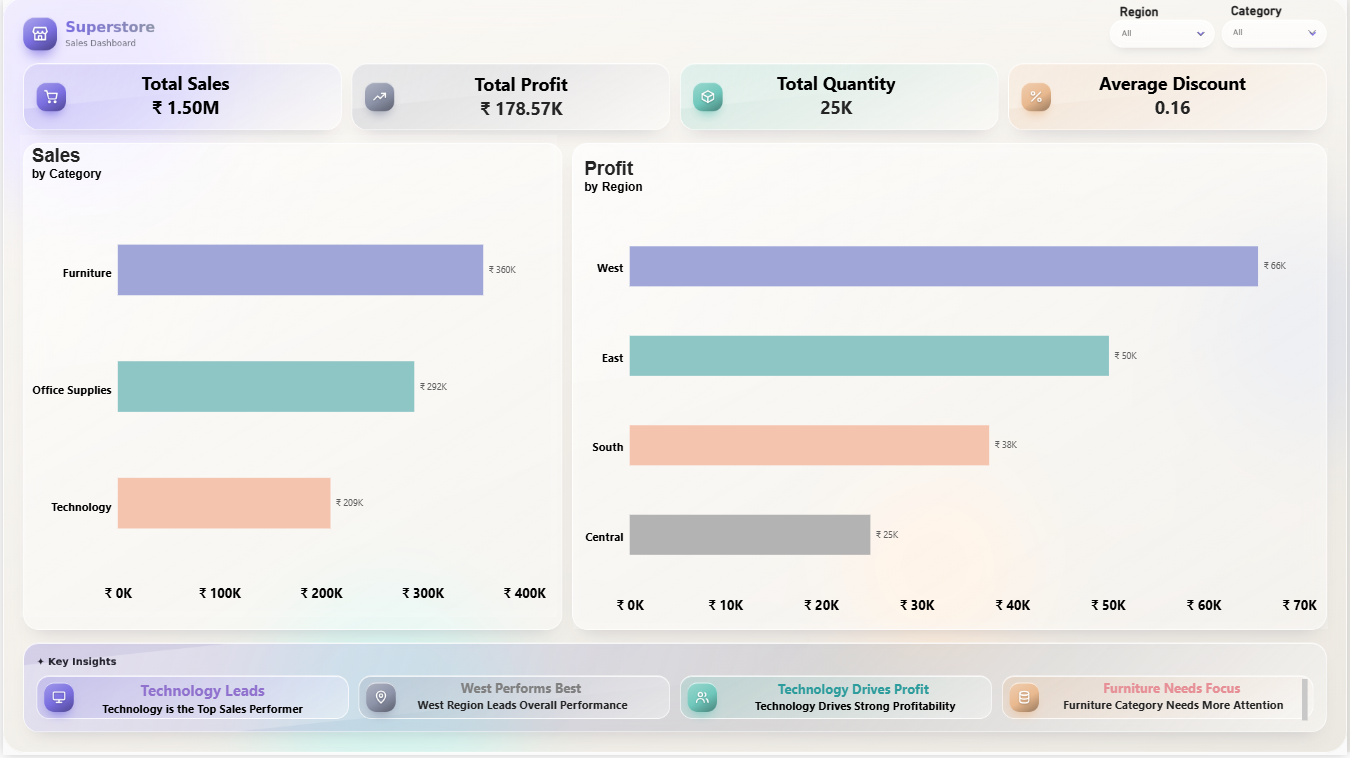

The page's visual inventory and layout, read from the dashboard file:
{"tool":"powerbi","page":{"name":"DASHBOARD","canvas":[1920,1080],"ordinal":0},"visuals":[{"type":"cardVisual","fields":{"Data":["Sum(Sample - Superstore.Sales)"]},"box":[41.7,90,439.6,96.7],"z":0},{"type":"cardVisual","fields":{"Data":["Sum(Sample - Superstore.Profit)"]},"box":[520,90,441.7,101.7],"z":1000},{"type":"cardVisual","fields":{"Data":["Sum(Sample - Superstore.Quantity)"]},"box":[973.3,90,434.9,96.7],"z":2000},{"type":"cardVisual","fields":{"Data":["Avg(Sample - Superstore.Discount)"]},"box":[1448.3,90,445.8,96.7],"z":3000},{"type":"clusteredBarChart","title":" Profit","fields":{"Category":["Sample - Superstore.Region"],"Y":["Sum(Sample - Superstore.Profit)"]},"box":[815,211.7,1078.3,688.3],"z":4000},{"type":"slicer","fields":{"Values":["Sample - Superstore.Region"]},"box":[1587.5,6.7,140.8,60],"z":5000},{"type":"clusteredBarChart","title":" Sales","fields":{"Category":["Sample - Superstore.Category"],"Y":["Sum(Sample - Superstore.Sales)"]},"box":[25,195,766.7,688.3],"z":6000},{"type":"slicer","fields":{"Values":["Sample - Superstore.Category"]},"box":[1746.7,5,140.8,67.5],"z":7000},{"type":"textbox","box":[101.7,973.3,366.7,71.7],"z":8000},{"type":"textbox","box":[550,972,380,68],"z":9000},{"type":"textbox","box":[1024,974,384,88],"z":10000},{"type":"textbox","box":[1481.7,971.7,381.7,70],"z":11000}]}

Visuals, with their boxes in screenshot pixels (x1, y1, x2, y2), scaled from the page's 1920x1080 canvas onto the 1350x758 screenshot:
cardVisual - Sum(Sample - Superstore.Sales): 29, 63, 338, 131
cardVisual - Sum(Sample - Superstore.Profit): 366, 63, 676, 135
cardVisual - Sum(Sample - Superstore.Quantity): 684, 63, 990, 131
cardVisual - Avg(Sample - Superstore.Discount): 1018, 63, 1332, 131
" Profit" clusteredBarChart: 573, 149, 1331, 632
slicer - Sample - Superstore.Region: 1116, 5, 1215, 47
" Sales" clusteredBarChart: 18, 137, 557, 620
slicer - Sample - Superstore.Category: 1228, 4, 1327, 51
textbox: 72, 683, 329, 733
textbox: 387, 682, 654, 730
textbox: 720, 684, 990, 745
textbox: 1042, 682, 1310, 731
